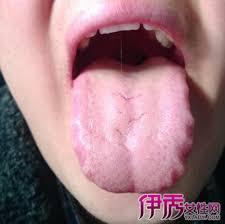baitaishe: (70, 57, 196, 194)
chihenshe: (170, 122, 195, 186)
